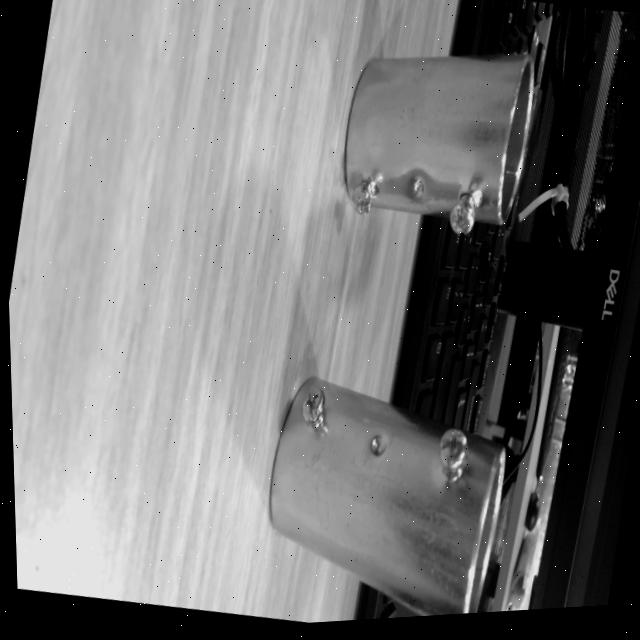Co_Lon: (237, 371, 531, 632)
Co_Nho: (334, 31, 538, 239)
